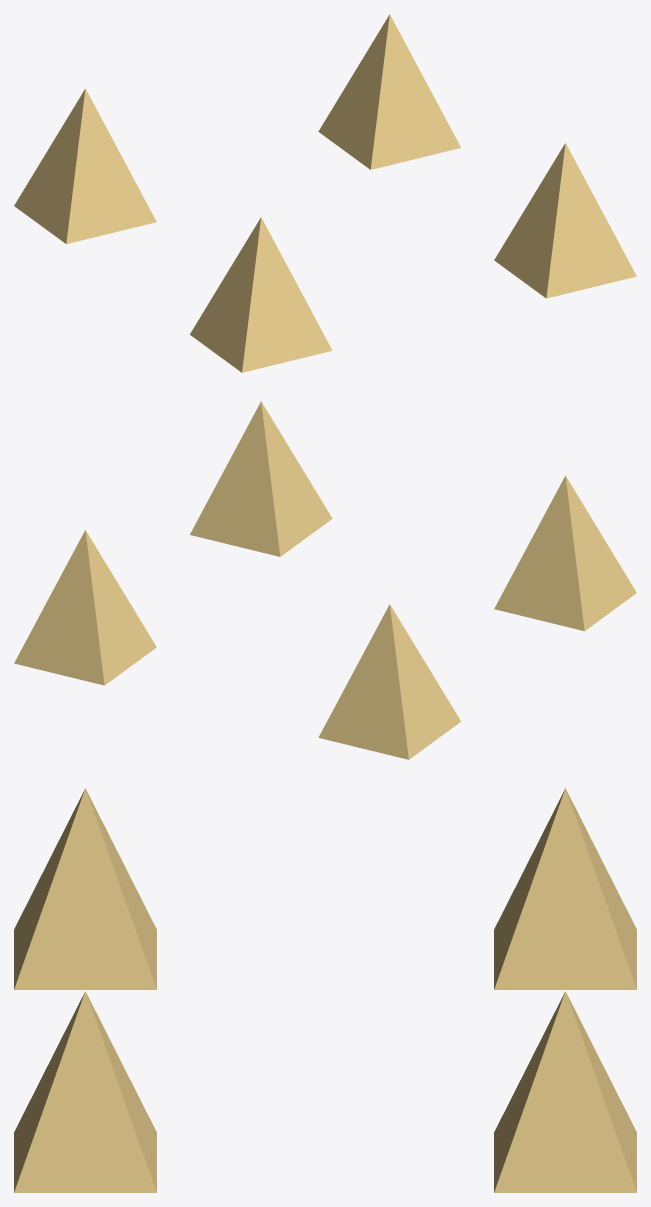
The model's file is claws.glb.
3 renders of one model, top to bottom at view 1: azimuth 30°, elevation 25°; view 2: azimuth 150°, elevation 25°; view 3: azimuth 270°, elevation 25°, orthographic. The views are drawn at different scales.
Visible parts, largest first — view 1: Claws; view 2: Claws; view 3: Claws.
Boxes of the visible parts, x1=… form: Claws: x1=14, y1=14, x2=636, y2=372; Claws: x1=14, y1=401, x2=636, y2=759; Claws: x1=14, y1=788, x2=636, y2=1192.
Bounding box in the file's own units: 0.4931 × 0.15 × 0.4931.
